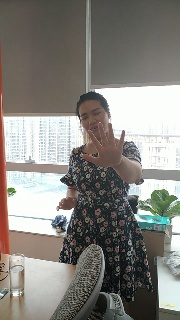hand: (80, 122, 125, 167), (56, 196, 78, 210)
